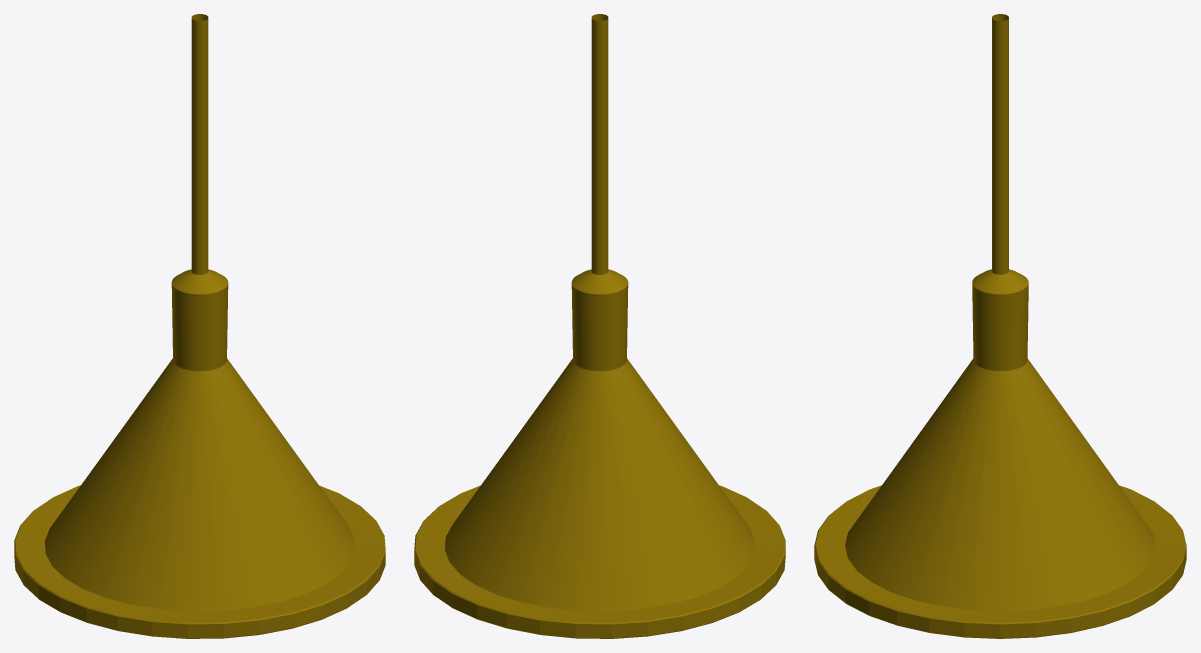
The model's file is Lamp.fbx.
3 renders of one model, left to right at view 1: azimuth 30°, elevation 25°; view 2: azimuth 150°, elevation 25°; view 3: azimuth 270°, elevation 25°, orthographic.
Visible parts, largest first — view 1: polySurface9; view 2: polySurface9; view 3: polySurface9.
Boxes of the visible parts, x1,y1,x2,y2 form: polySurface9: (14, 14, 385, 638); polySurface9: (414, 14, 785, 638); polySurface9: (814, 14, 1186, 638).
Size of the model in its own units: 2.08 by 3.35 by 2.08.
